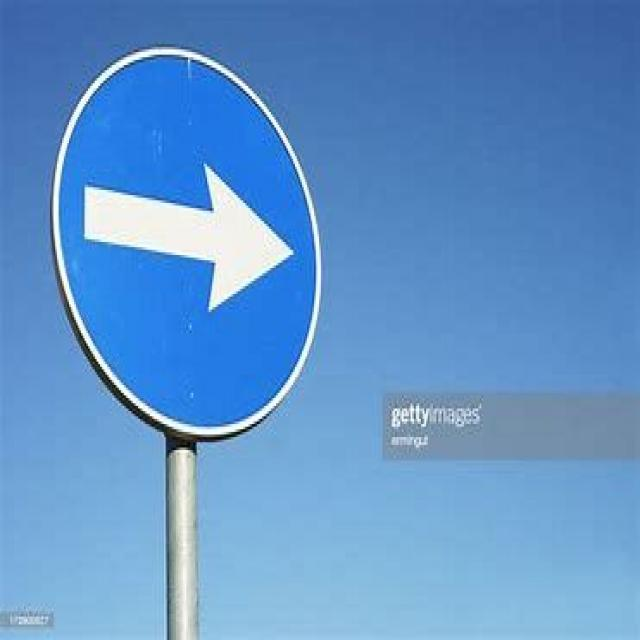COMPULSARY_TURN_RIGHT: (46, 42, 322, 437)
